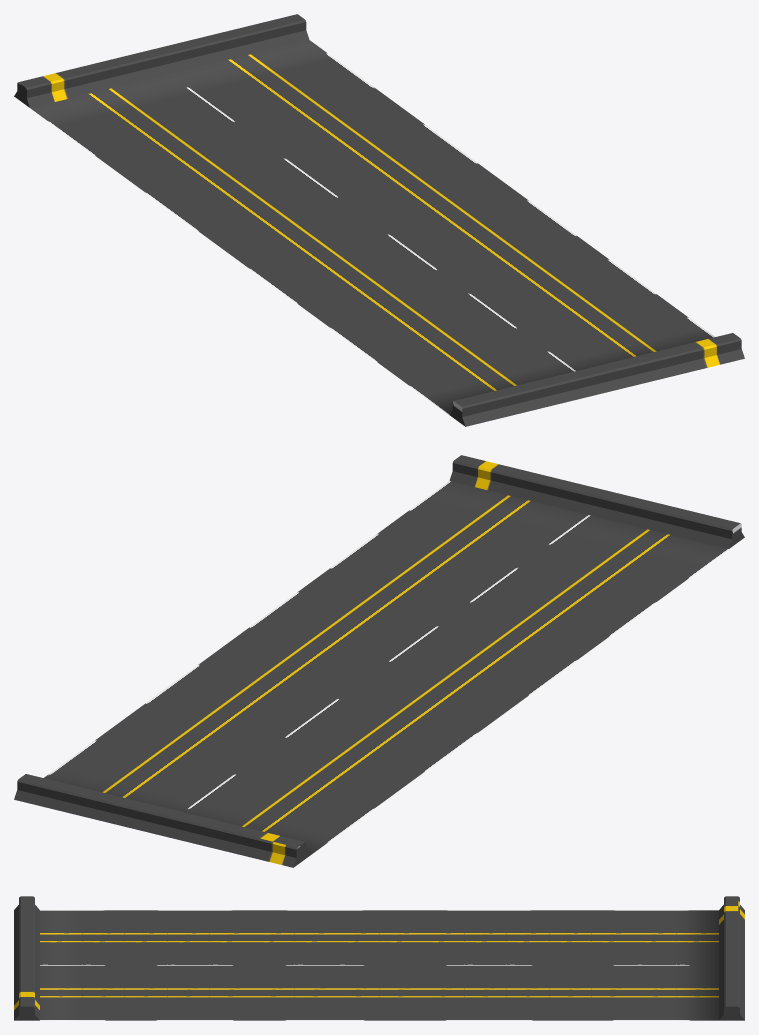
File: Road_ConcreteBarrier_1.fbx
3 renders of one model, top to bottom at view 1: azimuth 30°, elevation 25°; view 2: azimuth 150°, elevation 25°; view 3: azimuth 270°, elevation 25°, orthographic. The views are drawn at different scales.
Visible parts, largest first — view 1: Road_ConcreteBarrier_1; view 2: Road_ConcreteBarrier_1; view 3: Road_ConcreteBarrier_1.
Part boxes in pixels (x1,y1,x2,y2): Road_ConcreteBarrier_1: (14,14,744,426); Road_ConcreteBarrier_1: (14,455,744,867); Road_ConcreteBarrier_1: (14,896,744,1020).
Bounding box in the file's own units: 76.93 × 4.52 × 215.
1 material, 1 textured.
